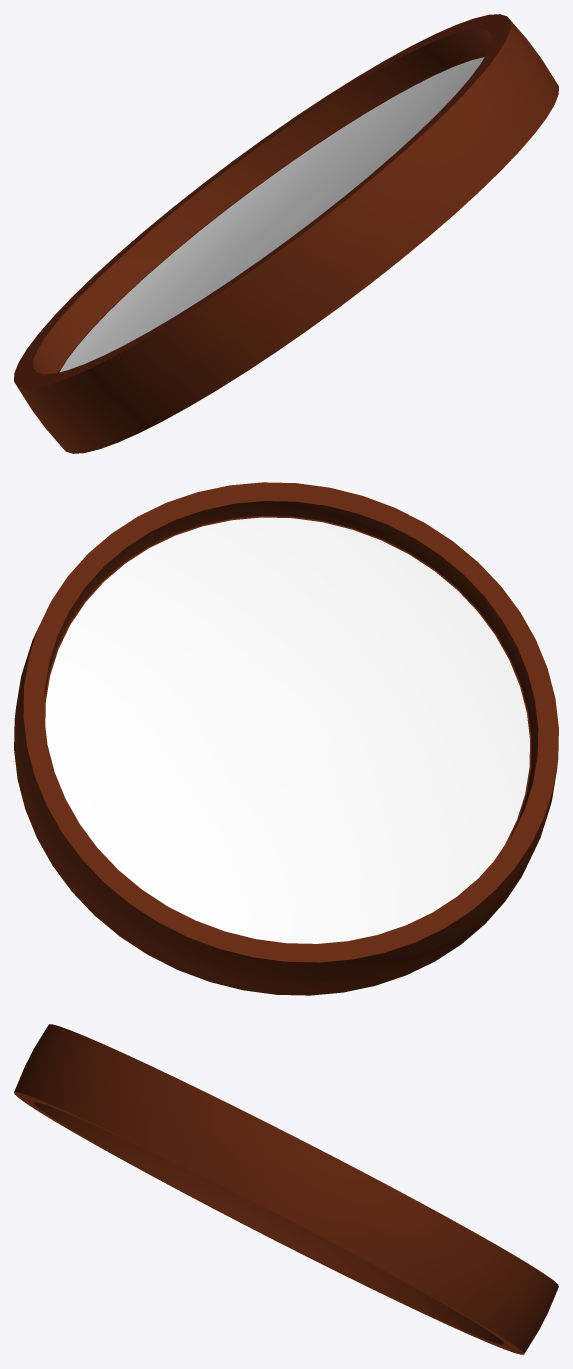
File: botonFinalTurno.FBX
3 renders of one model, top to bottom at view 1: azimuth 30°, elevation 25°; view 2: azimuth 150°, elevation 25°; view 3: azimuth 270°, elevation 25°, orthographic. The views are drawn at different scales.
Visible parts, largest first — view 1: Cylinder001; view 2: Cylinder001; view 3: Cylinder001.
Part boxes in pixels (left/top/right/bottom): Cylinder001: left=14, top=14, right=558, bottom=453; Cylinder001: left=14, top=482, right=558, bottom=995; Cylinder001: left=14, top=1024, right=558, bottom=1354.
Size of the model in its own units: 39.9 by 29.79 by 39.28.
